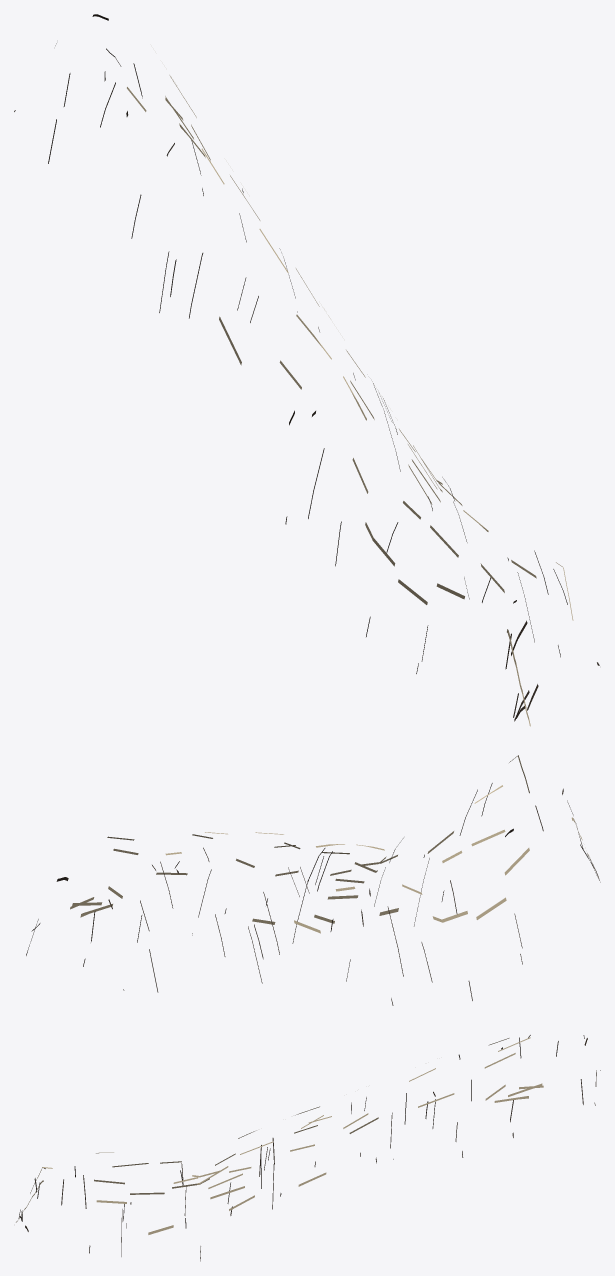
Rendered from dam_west_lane_fin_detail1.glb.
The picture shows the model from 3 angles, top to bottom: view 1: azimuth 30°, elevation 25°; view 2: azimuth 150°, elevation 25°; view 3: azimuth 270°, elevation 25°; orthographic projection. The views are drawn at different scales.
Parts seen in each view (by area): view 1: dam_west_lane_fin_detail1; view 2: dam_west_lane_fin_detail1; view 3: dam_west_lane_fin_detail1.
Boxes of the visible parts, x1,y1,x2,y2 form: dam_west_lane_fin_detail1: (14, 14, 599, 726); dam_west_lane_fin_detail1: (26, 755, 600, 1005); dam_west_lane_fin_detail1: (16, 1035, 600, 1261).
Size of the model in its own units: 20 by 59.83 by 149.
